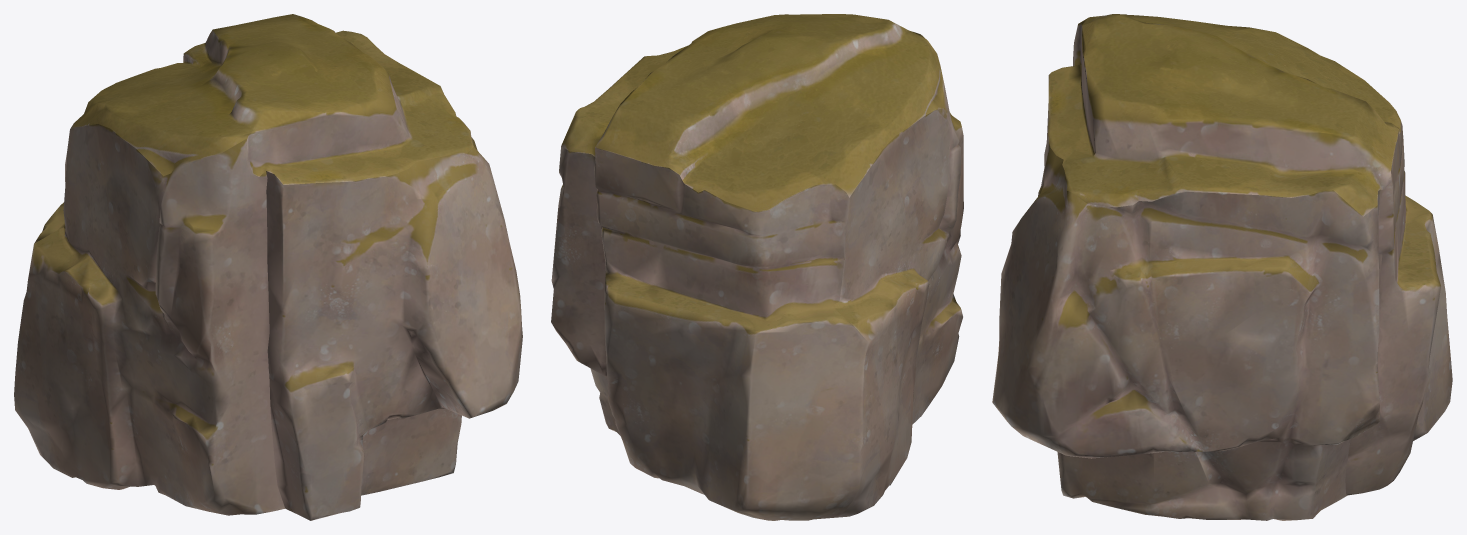
File: mossy_rock.glb
3 views of the same model, side by side, from view 1: azimuth 30°, elevation 25°; view 2: azimuth 150°, elevation 25°; view 3: azimuth 270°, elevation 25° (orthographic). The views are drawn at different scales.
Visible parts, largest first — view 1: Rock_01_Low; view 2: Rock_01_Low; view 3: Rock_01_Low.
Part boxes in pixels (bbox=[...]): Rock_01_Low: bbox=[14, 14, 522, 520]; Rock_01_Low: bbox=[551, 14, 963, 520]; Rock_01_Low: bbox=[992, 14, 1452, 520].
Bounding box in the file's own units: 211 × 240 × 239.
Materials: 1 (1 with a texture image).
